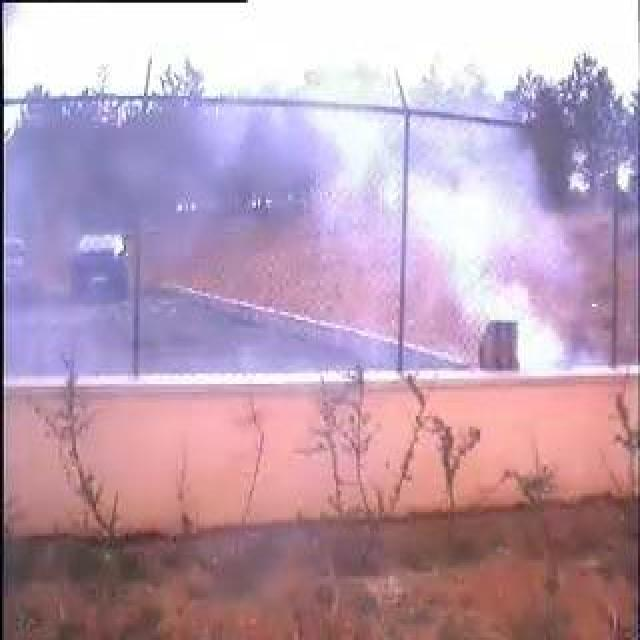Smoke: (289, 65, 569, 364)
